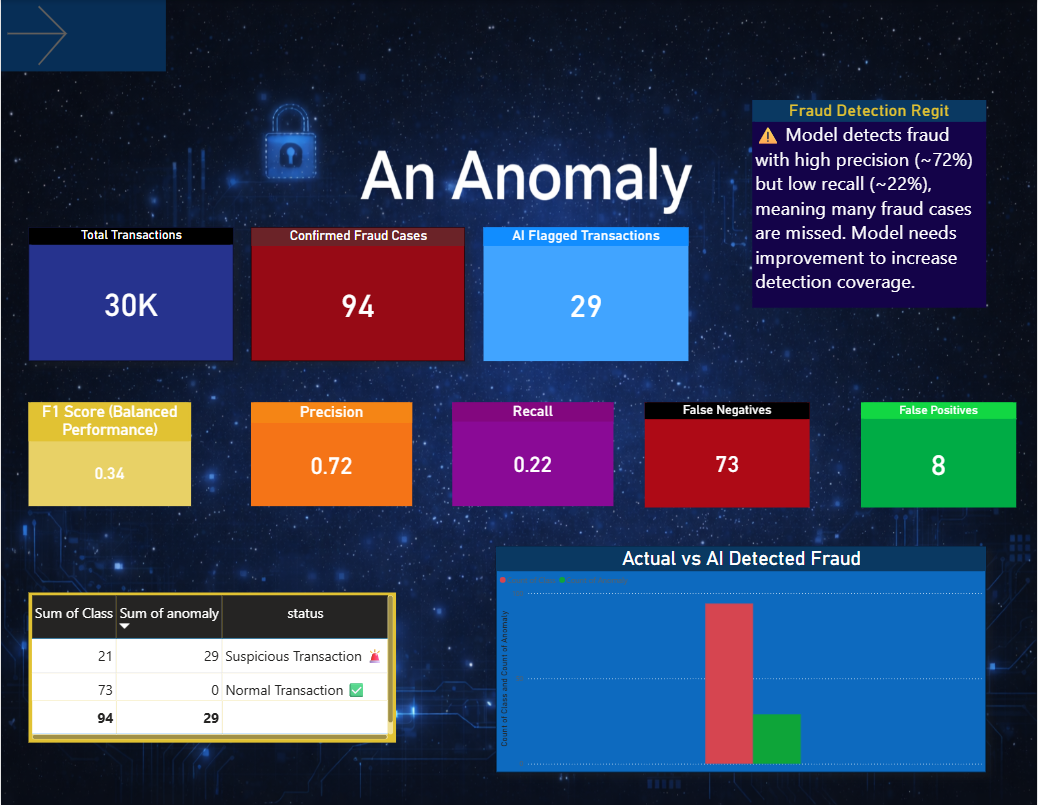

The dashboard page shown, as its layout file describes it:
{"tool":"powerbi","page":{"name":"Fraud Monitoring Overview","canvas":[1800,1400],"ordinal":0},"visuals":[{"type":"card","title":"Total Transactions","fields":{"Values":["anomaly_results_final.Total"]},"box":[47.8,395.2,356.1,232.3],"z":0},{"type":"card","title":"Confirmed Fraud Cases","fields":{"Values":["anomaly_results_final.Actual Fraud"]},"box":[434.2,395.2,371.3,232.3],"z":1000},{"type":"card","title":"AI Flagged Transactions","fields":{"Values":["anomaly_results_final.Predicted Fraud"]},"box":[838.1,395.2,356.1,232.3],"z":2000},{"type":"card","title":"F1 Score (Balanced Performance)","fields":{"Values":["anomaly_results_final.F1 Score"]},"box":[47.8,699.1,282.3,180.2],"z":3000},{"type":"card","title":"False Negatives","fields":{"Values":["anomaly_results_final.FN"]},"box":[1118.2,699.1,286.6,182.4],"z":4000},{"type":"card","title":"False Positives","fields":{"Values":["anomaly_results_final.FP"]},"box":[1493.8,699.1,269.2,182.4],"z":5000},{"type":"card","title":"Recall","fields":{"Values":["anomaly_results_final.Recall"]},"box":[783.8,699.1,280.1,180.2],"z":6000},{"type":"card","title":"Precision","fields":{"Values":["anomaly_results_final.Precision"]},"box":[434.2,699.1,280.1,180.2],"z":7000},{"type":"tableEx","fields":{"Values":["Sum(anomaly_results_final.Class)","Sum(anomaly_results_final.anomaly)","anomaly_results_final.status"]},"box":[47.8,1029.2,638.3,260.5],"z":7001},{"type":"textbox","title":"Fraud Detection Regit","box":[1304.9,173.7,406,360.4],"z":7002},{"type":"clusteredColumnChart","title":"Actual vs AI Detected Fraud","fields":{"Y":["anomaly_results_final.Count of Class","anomaly_results_final.Count of Anomaly"]},"box":[859.8,948.8,851.1,393],"z":7003},{"type":"actionButton","box":[0,0,286.6,123.8],"z":7004}]}

Visuals, with their boxes in screenshot pixels (x1, y1, x2, y2), scaled from the page's 1800x1400 canvas onto the 1038x805 screenshot:
"Total Transactions" card: detection(28, 227, 233, 361)
"Confirmed Fraud Cases" card: detection(250, 227, 465, 361)
"AI Flagged Transactions" card: detection(483, 227, 689, 361)
"F1 Score (Balanced Performance)" card: detection(28, 402, 190, 506)
"False Negatives" card: detection(645, 402, 810, 507)
"False Positives" card: detection(861, 402, 1017, 507)
"Recall" card: detection(452, 402, 614, 506)
"Precision" card: detection(250, 402, 412, 506)
tableEx - Sum(anomaly_results_final.Class) x Sum(anomaly_results_final.anomaly): detection(28, 592, 396, 742)
"Fraud Detection Regit" textbox: detection(752, 100, 987, 307)
"Actual vs AI Detected Fraud" clusteredColumnChart: detection(496, 546, 987, 772)
actionButton: detection(0, 0, 165, 71)
